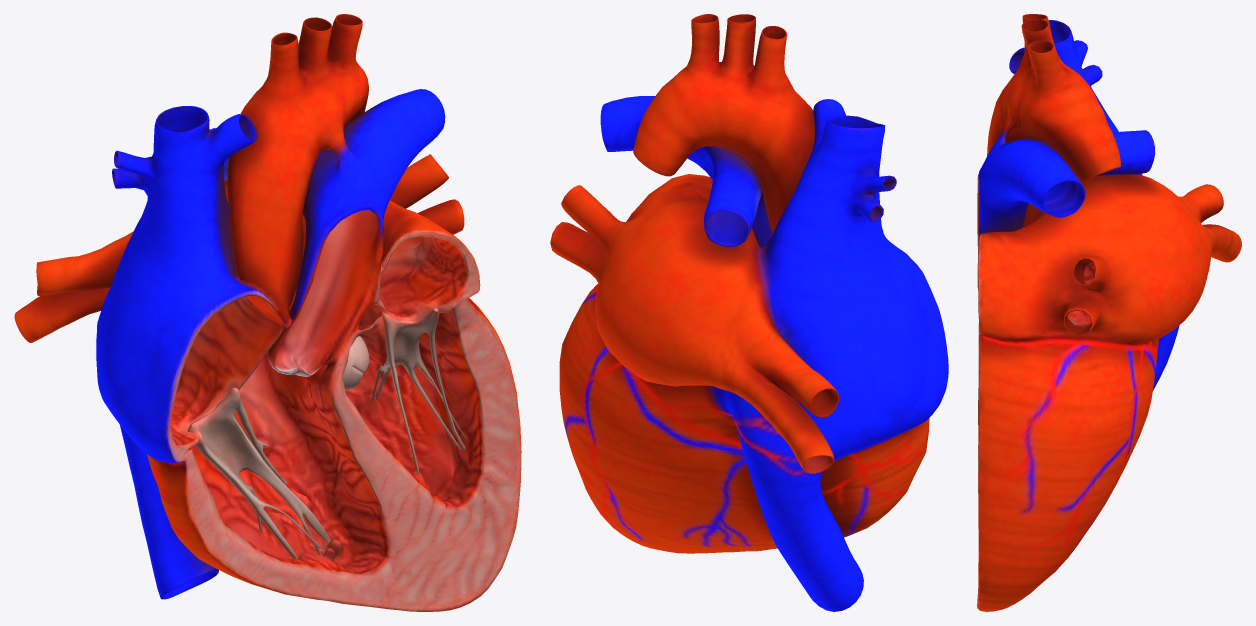
The model's file is heartannot.glb.
3 renders of one model, left to right at view 1: azimuth 30°, elevation 25°; view 2: azimuth 150°, elevation 25°; view 3: azimuth 270°, elevation 25°, orthographic. The views are drawn at different scales.
Parts seen in each view (by area): view 1: GLTF_created_0_6; view 2: GLTF_created_0_6; view 3: GLTF_created_0_6.
Boxes of the visible parts, x1,y1,x2,y2 form: GLTF_created_0_6: [14, 14, 521, 611]; GLTF_created_0_6: [550, 14, 948, 611]; GLTF_created_0_6: [977, 14, 1241, 611].
Size of the model in its own units: 0.1113 by 0.167 by 0.075.
1 material, 1 textured.
